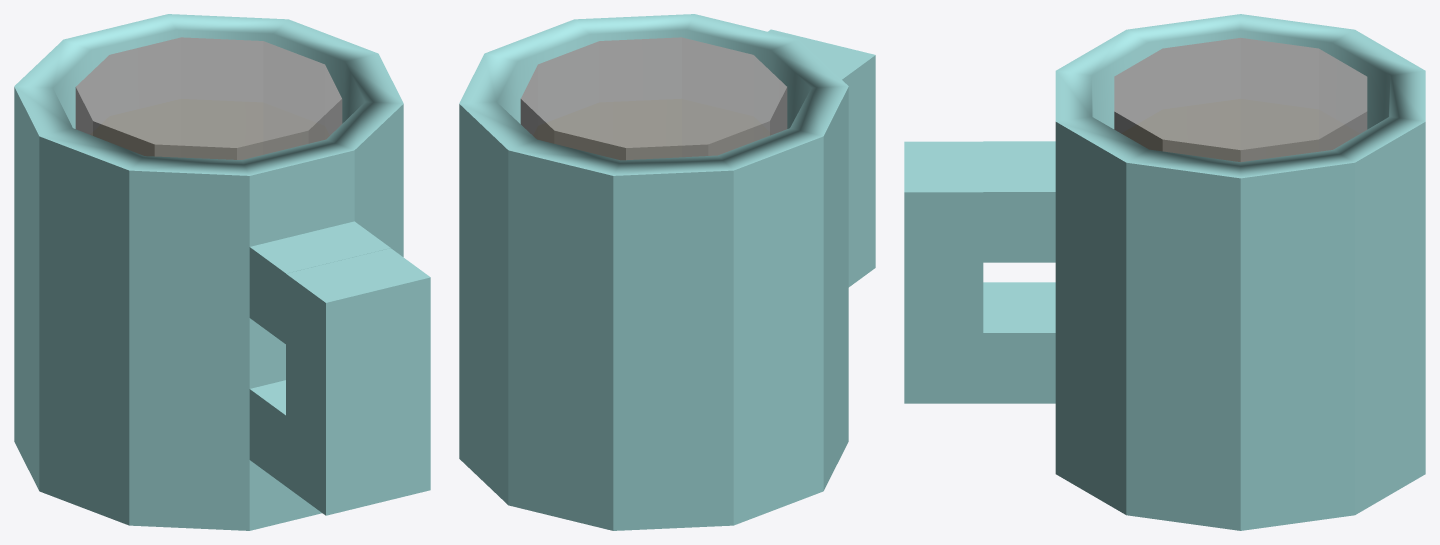
Rendered from PintFull.fbx.
3 renders of one model, left to right at view 1: azimuth 30°, elevation 25°; view 2: azimuth 150°, elevation 25°; view 3: azimuth 270°, elevation 25°, orthographic.
Visible parts, largest first — view 1: pCylinder1, pCylinder2; view 2: pCylinder1, pCylinder2; view 3: pCylinder1, pCylinder2.
Part boxes in pixels (<box>): pCylinder1: <box>14,14,430,530</box>; pCylinder2: <box>75,37,342,159</box>; pCylinder1: <box>459,14,875,530</box>; pCylinder2: <box>520,37,787,160</box>; pCylinder1: <box>904,14,1425,530</box>; pCylinder2: <box>1114,37,1367,162</box>.
Bounding box in the file's own units: 2 × 2.01 × 2.68.
